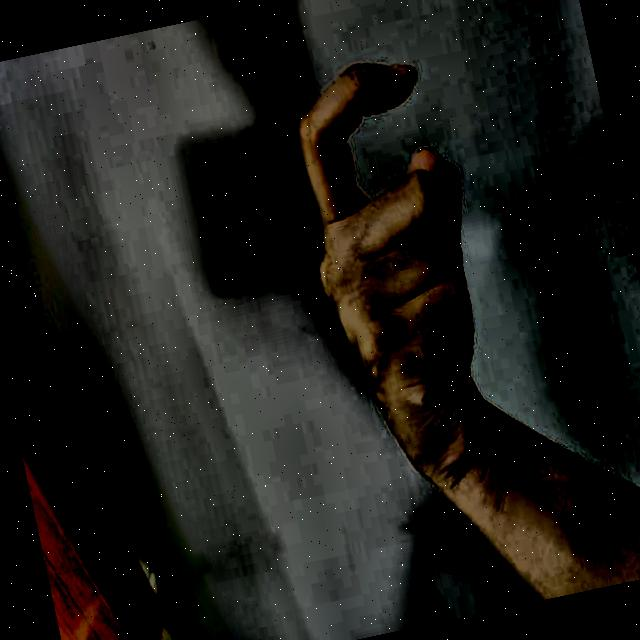E: (252, 1, 610, 534)
